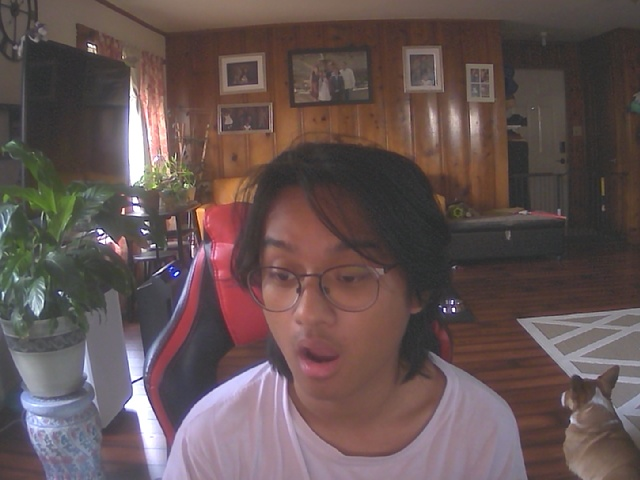fear: (243, 152, 429, 404)
